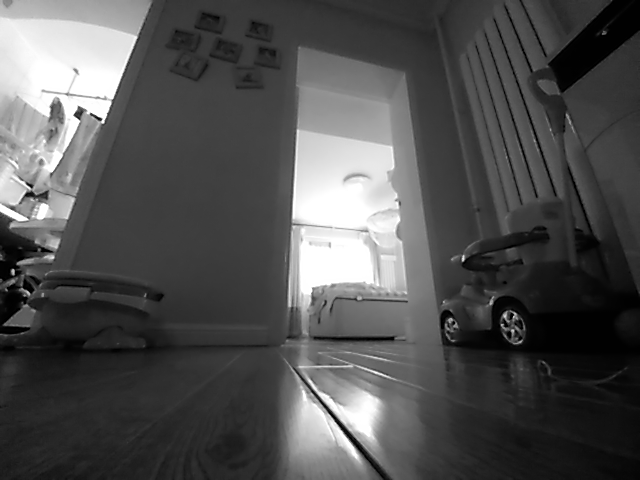curtain: (282, 223, 306, 338)
toy: (439, 229, 612, 348), (1, 269, 167, 354)
